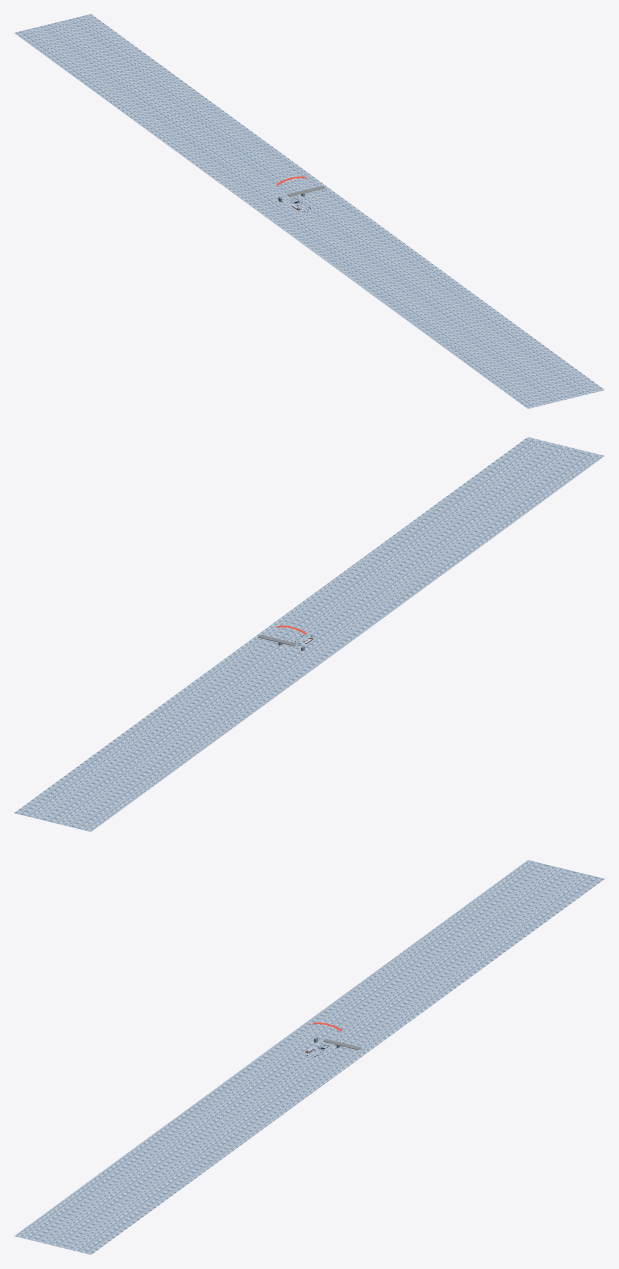
File: lugar-novosibirsk.glb
3 renders of one model, top to bottom at view 1: azimuth 30°, elevation 25°; view 2: azimuth 150°, elevation 25°; view 3: azimuth 330°, elevation 25°, orthographic.
Visible parts, largest first — view 1: luzG-hielo; view 2: luzG-hielo; view 3: luzG-hielo.
Part boxes in pixels (x1,y1,x2,y2): luzG-hielo: (14, 14, 604, 408); luzG-hielo: (14, 437, 604, 831); luzG-hielo: (14, 860, 604, 1254).
Bounding box in the file's own units: 260 × 69.29 × 3000.
Materials: 13 (5 with a texture image).
